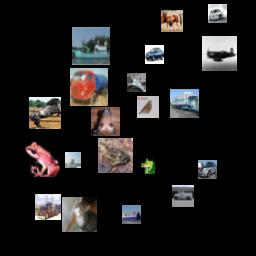airplane: (202, 36, 237, 71), (127, 73, 146, 92)
automobile: (145, 45, 164, 64), (198, 160, 217, 179), (208, 4, 227, 23)
bird: (137, 96, 159, 118)
cat: (62, 197, 97, 232)
dog: (91, 107, 120, 136)
frog: (25, 142, 60, 177), (98, 138, 133, 173), (139, 158, 155, 174)
ship: (72, 27, 110, 65), (122, 205, 141, 224), (65, 152, 81, 168)
truck: (70, 68, 108, 106), (170, 89, 199, 118), (35, 194, 61, 220), (172, 185, 194, 207)
